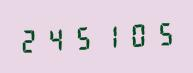five: (70, 21, 95, 53), (148, 17, 173, 48)
four: (43, 22, 68, 54)
one: (96, 20, 121, 51)
two: (17, 24, 42, 55)
zero: (122, 18, 147, 50)
